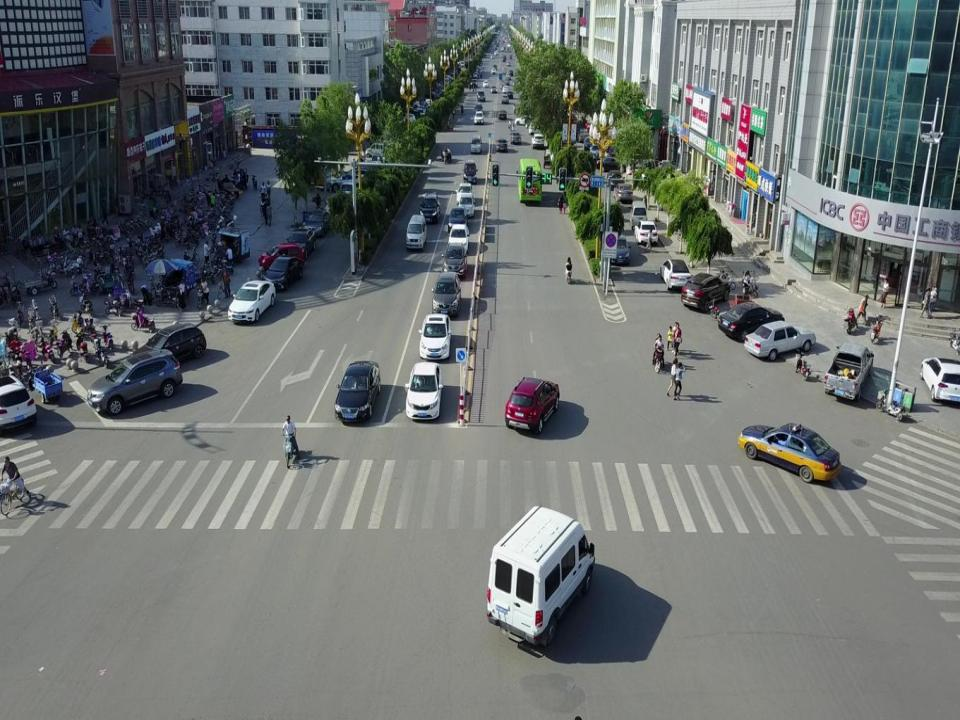bus: (516, 158, 542, 202)
car: (87, 348, 183, 416), (738, 422, 840, 482), (131, 323, 206, 369), (504, 377, 560, 436), (744, 320, 816, 361), (334, 362, 380, 422), (718, 302, 785, 342), (404, 361, 444, 420), (0, 374, 37, 434), (228, 279, 275, 323), (681, 272, 731, 312), (920, 357, 960, 403), (419, 314, 452, 360), (262, 256, 302, 292), (431, 271, 462, 317), (258, 242, 304, 271), (660, 259, 692, 291), (284, 228, 316, 260), (441, 242, 467, 278), (303, 211, 334, 236), (325, 171, 362, 191), (331, 173, 367, 192), (448, 224, 470, 255), (610, 234, 631, 266), (634, 220, 658, 246), (420, 194, 440, 224), (595, 156, 628, 173), (448, 206, 468, 234), (457, 193, 476, 218), (346, 168, 375, 184), (614, 183, 634, 204), (456, 183, 474, 205), (608, 170, 625, 191), (366, 141, 386, 158), (514, 115, 538, 126), (531, 134, 545, 150), (525, 117, 542, 129), (509, 131, 521, 145), (496, 138, 508, 152), (528, 122, 541, 134), (474, 110, 484, 125), (497, 109, 508, 121), (474, 104, 484, 115), (477, 92, 486, 103), (501, 93, 509, 105), (506, 90, 514, 99)
truck: (824, 343, 874, 401)
van: (486, 506, 595, 646), (405, 215, 427, 251), (629, 200, 647, 229), (462, 159, 478, 185), (339, 182, 357, 204), (470, 134, 482, 154)
